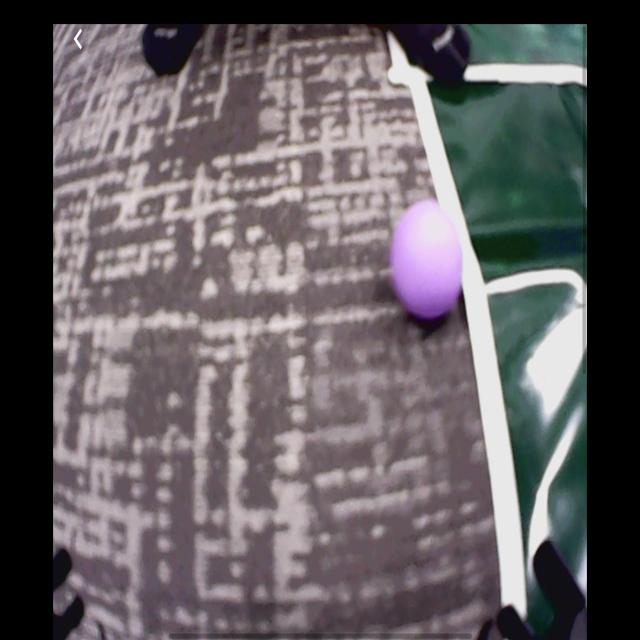ball: (392, 203, 464, 314)
